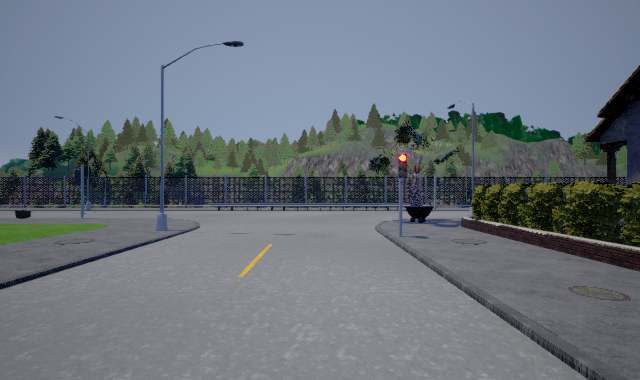traffic_light: (397, 149, 407, 183)
